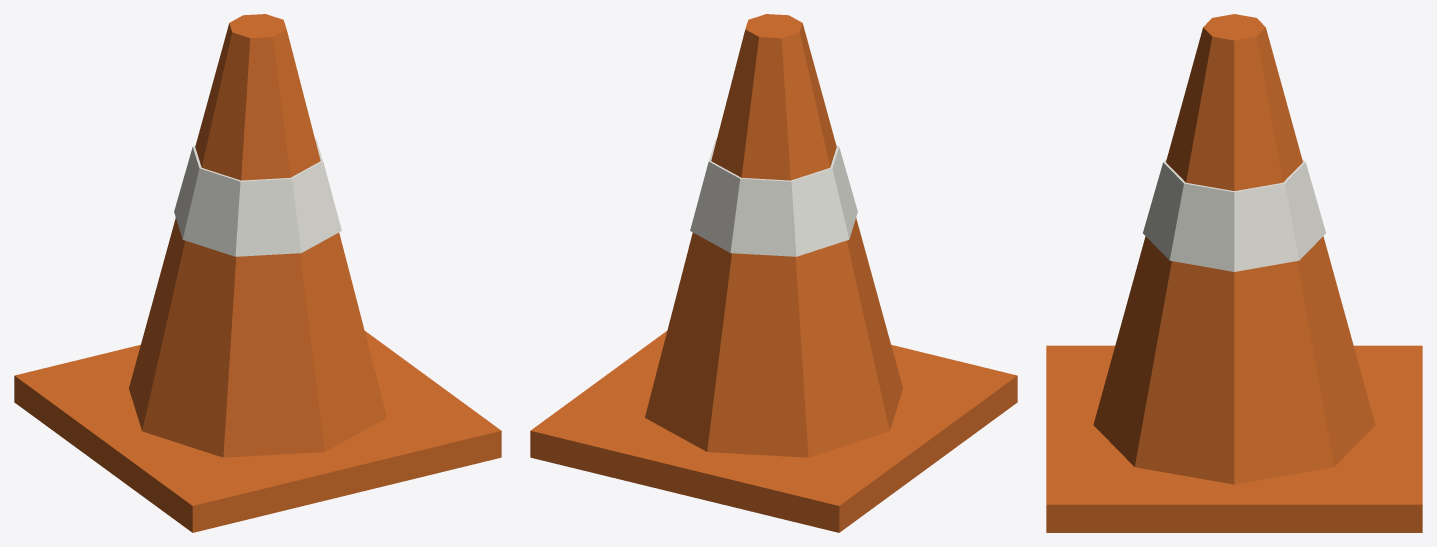
The model's file is GS_TrainingCone_01.glb.
3 renders of one model, left to right at view 1: azimuth 30°, elevation 25°; view 2: azimuth 150°, elevation 25°; view 3: azimuth 270°, elevation 25°, orthographic. The views are drawn at different scales.
Parts seen in each view (by area): view 1: GS_TrainingCone_01; view 2: GS_TrainingCone_01; view 3: GS_TrainingCone_01.
Part boxes in pixels (x1,y1,x2,y2): GS_TrainingCone_01: (14,14,501,532); GS_TrainingCone_01: (530,14,1017,532); GS_TrainingCone_01: (1046,14,1422,532).
Size of the model in its own units: 0.24 by 0.3 by 0.24.
Materials: 1 (1 with a texture image).
